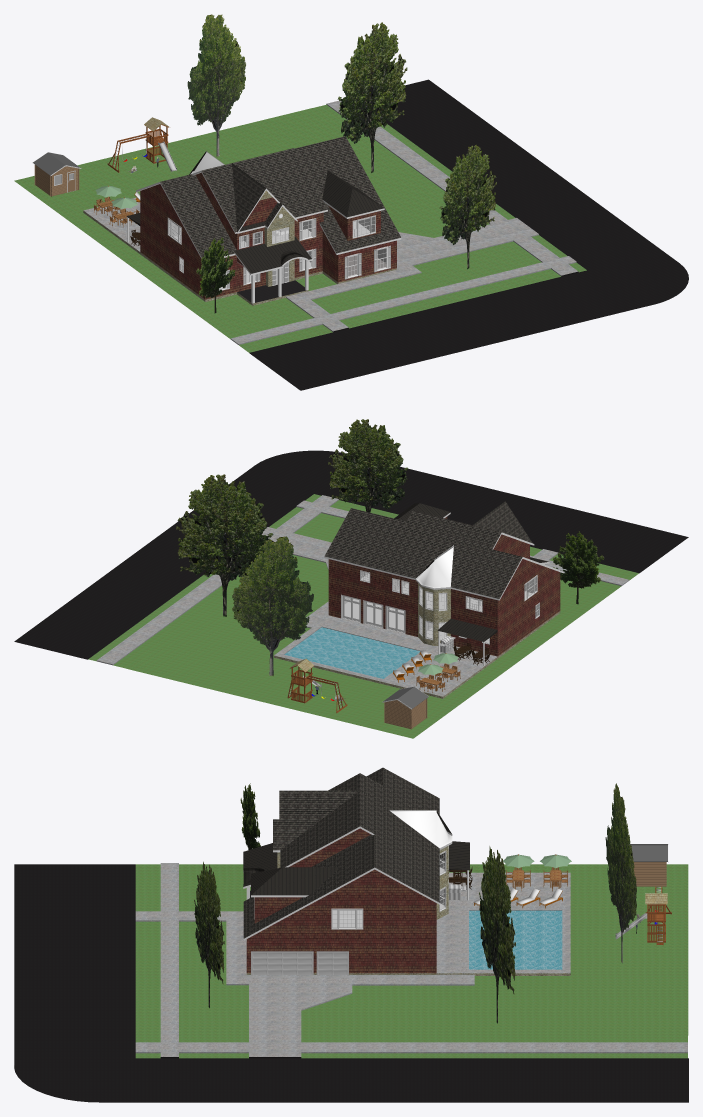
Rendered from urban_house.glb.
3 renders of one model, top to bottom at view 1: azimuth 30°, elevation 25°; view 2: azimuth 150°, elevation 25°; view 3: azimuth 270°, elevation 25°, orthographic. The views are drawn at different scales.
Visible parts, largest first — view 1: southern home, SCF_Decid8.001, SCF_Decid7, SCF_Decid8.001_0, SCF_Decid3; view 2: southern home, SCF_Decid8.001, SCF_Decid7, SCF_Decid8.001_0, SCF_Decid3; view 3: southern home, SCF_Decid8.001, SCF_Decid7, SCF_Decid8.001_0, Garage door, SCF_Decid3, one car garage door, 21.001_0.
Part boxes in pixels (x1,y1,x2,y2): southern home: [14, 79, 688, 390]; SCF_Decid8.001: [337, 22, 407, 172]; SCF_Decid7: [187, 14, 245, 156]; SCF_Decid8.001_0: [439, 144, 496, 269]; SCF_Decid3: [196, 237, 235, 313]; southern home: [14, 450, 688, 738]; SCF_Decid8.001: [176, 474, 273, 616]; SCF_Decid7: [232, 536, 313, 675]; SCF_Decid8.001_0: [328, 419, 408, 512]; SCF_Decid3: [553, 531, 603, 604]; southern home: [14, 767, 688, 1102]; SCF_Decid8.001: [479, 846, 515, 1023]; SCF_Decid7: [605, 783, 636, 963]; SCF_Decid8.001_0: [194, 861, 224, 1008]; Garage door: [251, 951, 313, 975]; SCF_Decid3: [240, 783, 260, 849]; one car garage door: [316, 951, 348, 975]; 21.001_0: [631, 845, 667, 861].
Bounding box in the file's own units: 46.92 × 15.76 × 55.15.
55 materials, 28 textured.
